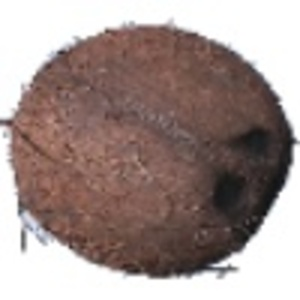coco: (1, 24, 298, 279)
